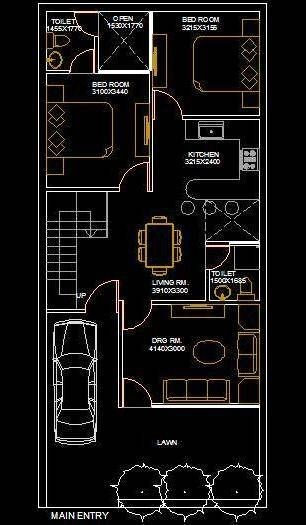door: (81, 277, 119, 309), (114, 161, 149, 193), (151, 86, 183, 120), (119, 302, 154, 331), (124, 375, 156, 406), (68, 46, 95, 71), (206, 242, 231, 269)
room: (39, 73, 151, 193), (149, 10, 259, 121), (109, 193, 206, 305), (149, 120, 266, 200), (41, 6, 98, 71), (205, 242, 264, 302)
